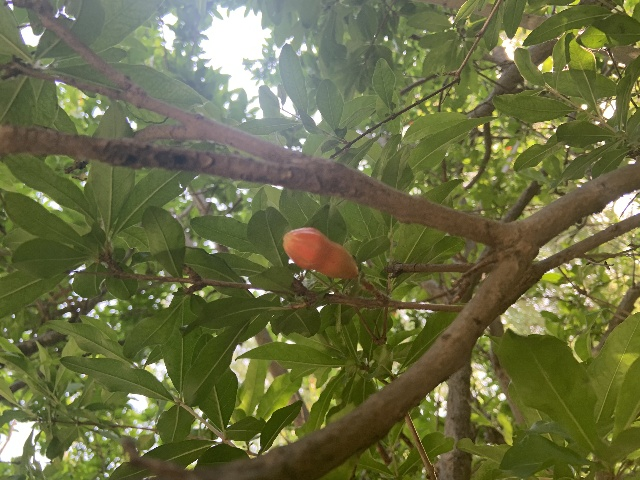bud: (282, 226, 357, 279)
